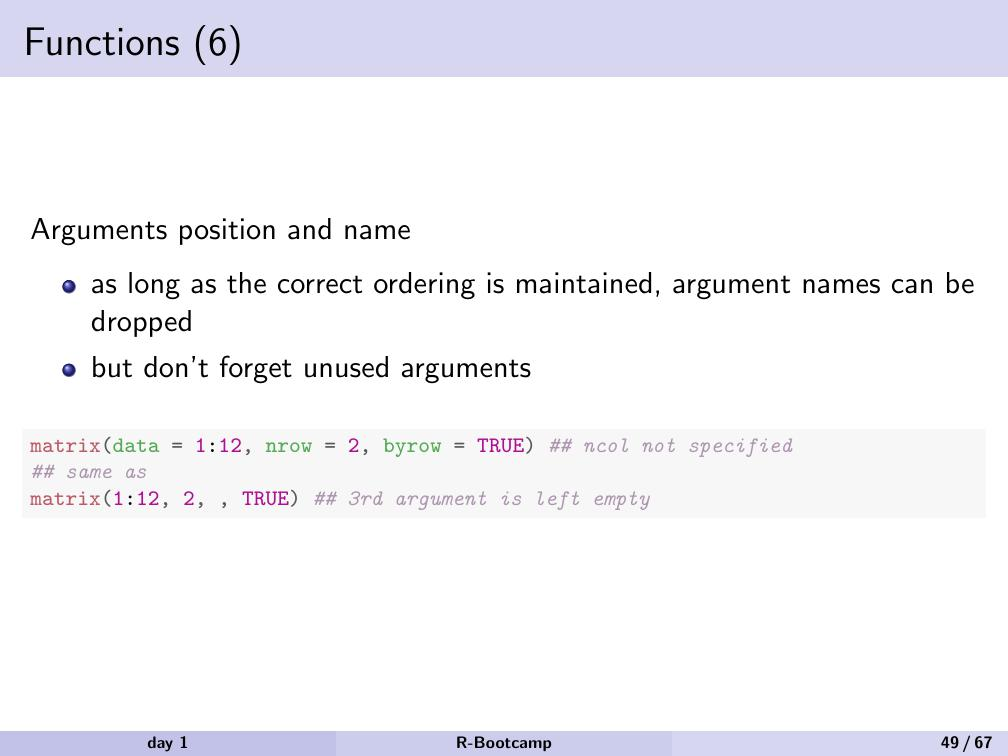Title: (17, 13, 248, 74)
